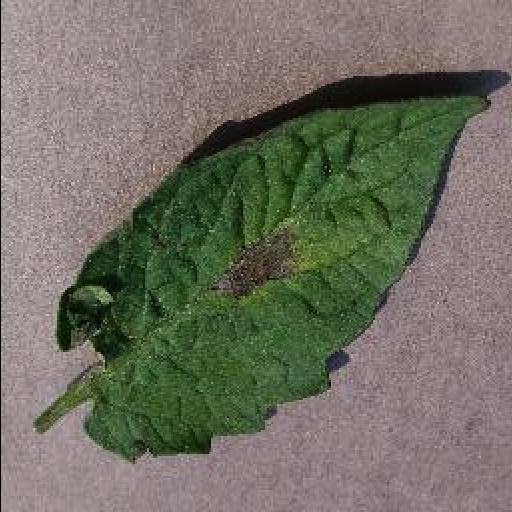disease_tomato: (53, 92, 495, 466)
